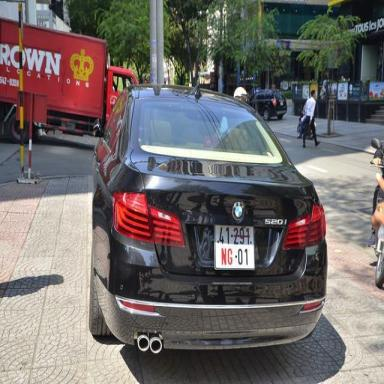License_Plate: (213, 220, 256, 272)
